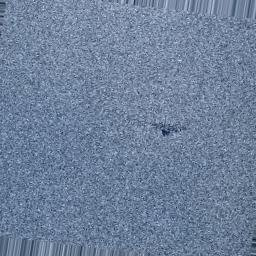Airplane: (147, 115, 191, 137)
